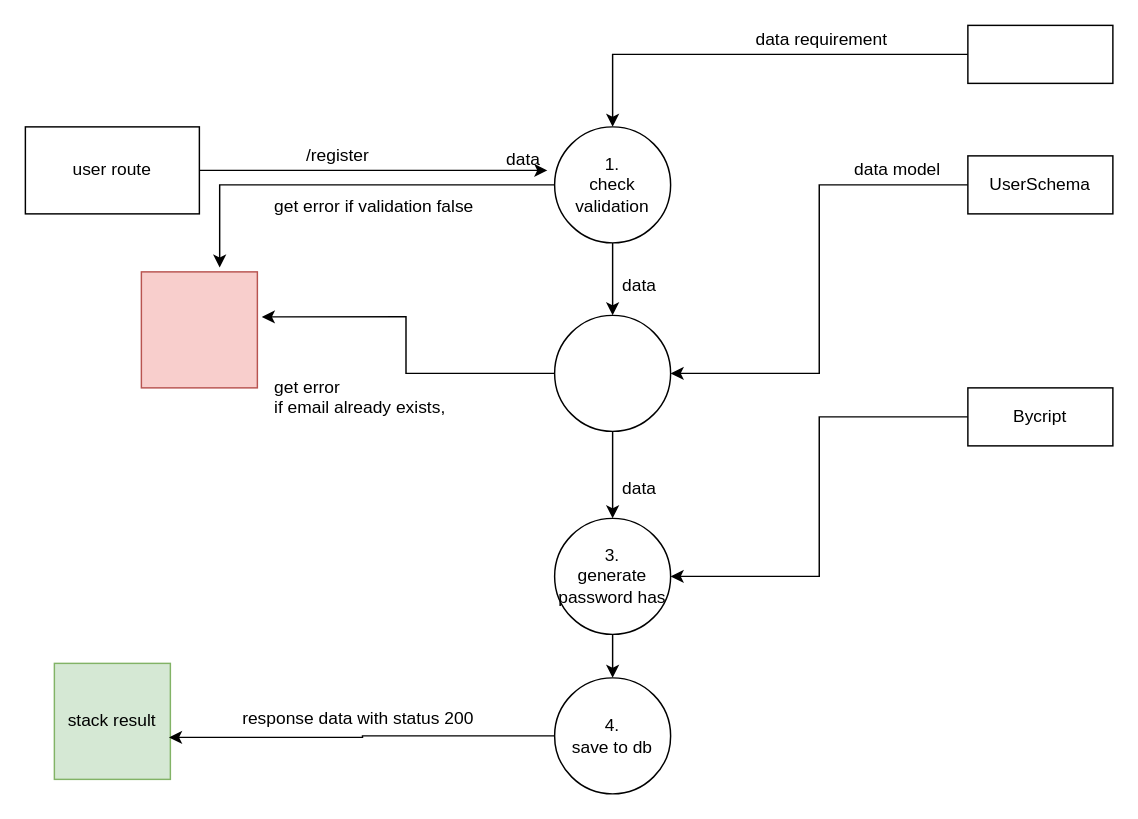
The diagram is 1138 pixels wide and 819 high, and some of its shapes have lost their labels. The box of each missing label's shape, as (x1, y1, x2, y2) in pixels:
2. check to db: (553, 314, 671, 431)
stack error: (140, 270, 257, 388)
validation: (966, 24, 1113, 83)
